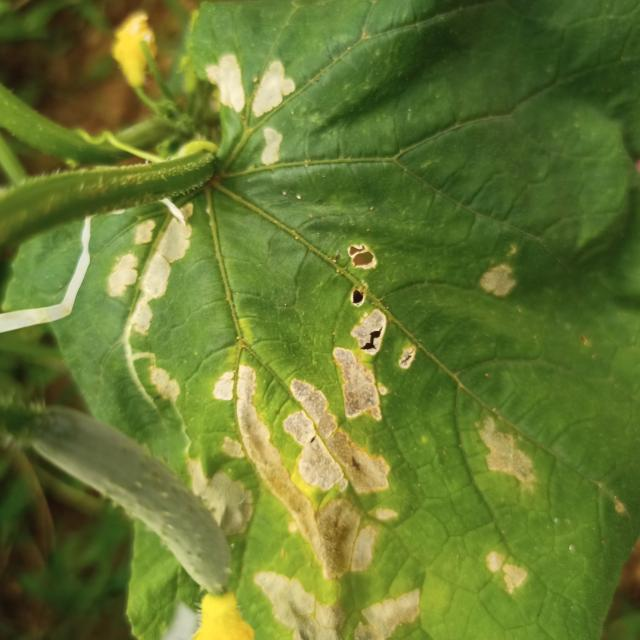disease_cucumber: (110, 204, 538, 640), (207, 53, 297, 169)
